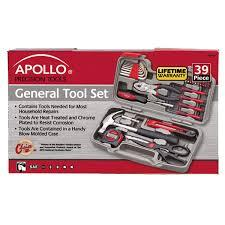wrench: (118, 57, 147, 81)
